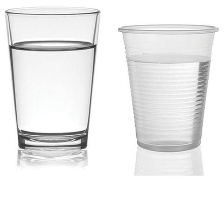glass: (0, 3, 105, 157), (115, 15, 223, 159)
